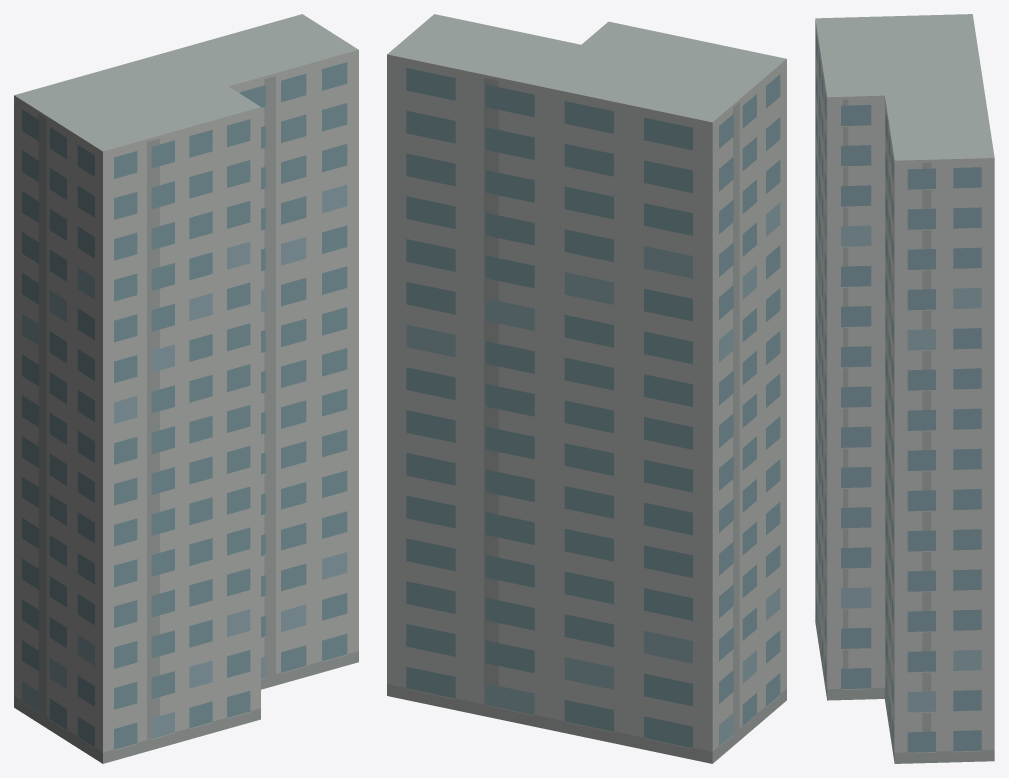
Rendered from residential-b911a1ee-fa42-467a-a7b6-739a806d7168.glb.
3 views of the same model, side by side, from view 1: azimuth 30°, elevation 25°; view 2: azimuth 150°, elevation 25°; view 3: azimuth 270°, elevation 25° (orthographic). The views are drawn at different scales.
Parts seen in each view (by area): view 1: residential-b911a1ee-fa42-467a-a7b6-739a806d7168.tmp; view 2: residential-b911a1ee-fa42-467a-a7b6-739a806d7168.tmp; view 3: residential-b911a1ee-fa42-467a-a7b6-739a806d7168.tmp.
Part boxes in pixels (x1,y1,x2,y2): residential-b911a1ee-fa42-467a-a7b6-739a806d7168.tmp: [14, 14, 358, 763]; residential-b911a1ee-fa42-467a-a7b6-739a806d7168.tmp: [387, 14, 786, 763]; residential-b911a1ee-fa42-467a-a7b6-739a806d7168.tmp: [815, 14, 994, 763].
Size of the model in its own units: 27.13 by 52 by 14.03.
